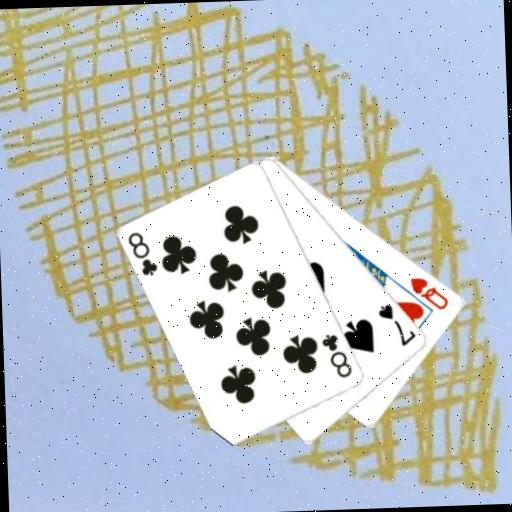7S: (374, 300, 418, 348)
8C: (125, 228, 160, 279), (319, 330, 354, 380)
QH: (407, 272, 450, 312)
